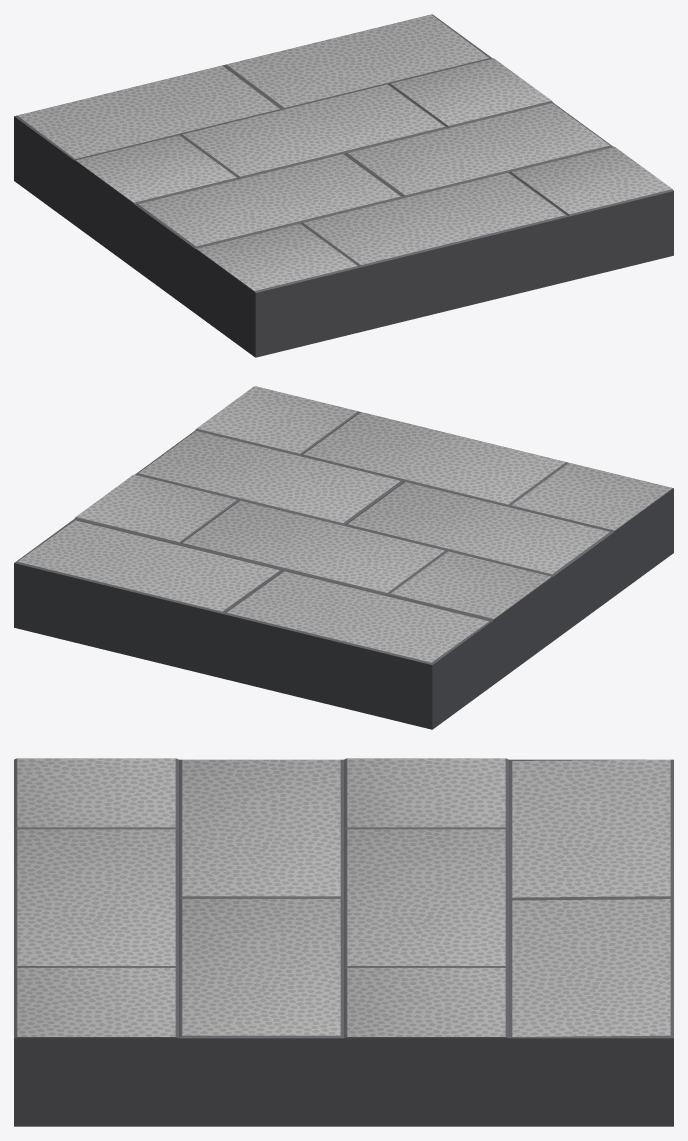
Rendered from Floor_Kitchen.fbx.
The picture shows the model from 3 angles, top to bottom: view 1: azimuth 30°, elevation 25°; view 2: azimuth 150°, elevation 25°; view 3: azimuth 270°, elevation 25°; orthographic projection. The views are drawn at different scales.
Parts seen in each view (by area): view 1: BodenFliesen; view 2: BodenFliesen; view 3: BodenFliesen.
Boxes of the visible parts, <box> form: BodenFliesen: <box>14,14,673,357</box>; BodenFliesen: <box>14,386,673,729</box>; BodenFliesen: <box>14,758,673,1126</box>.
Bounding box in the file's own units: 2 × 0.3 × 2.
